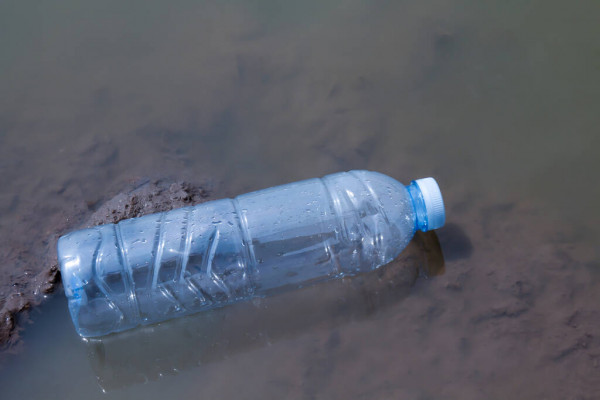plastic_bottle: (36, 163, 524, 373)
